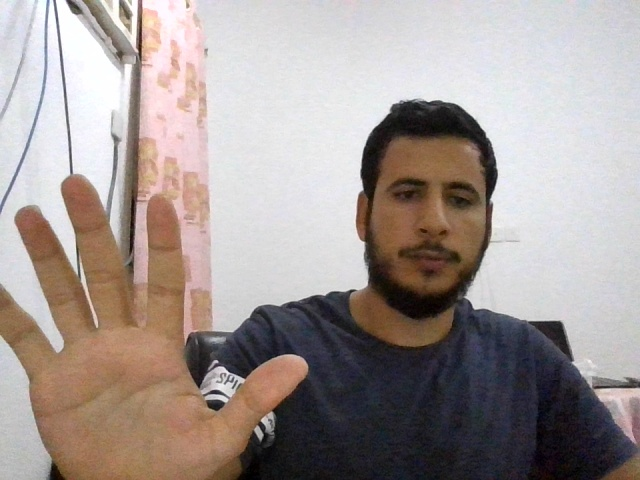Five: (1, 175, 310, 480)
